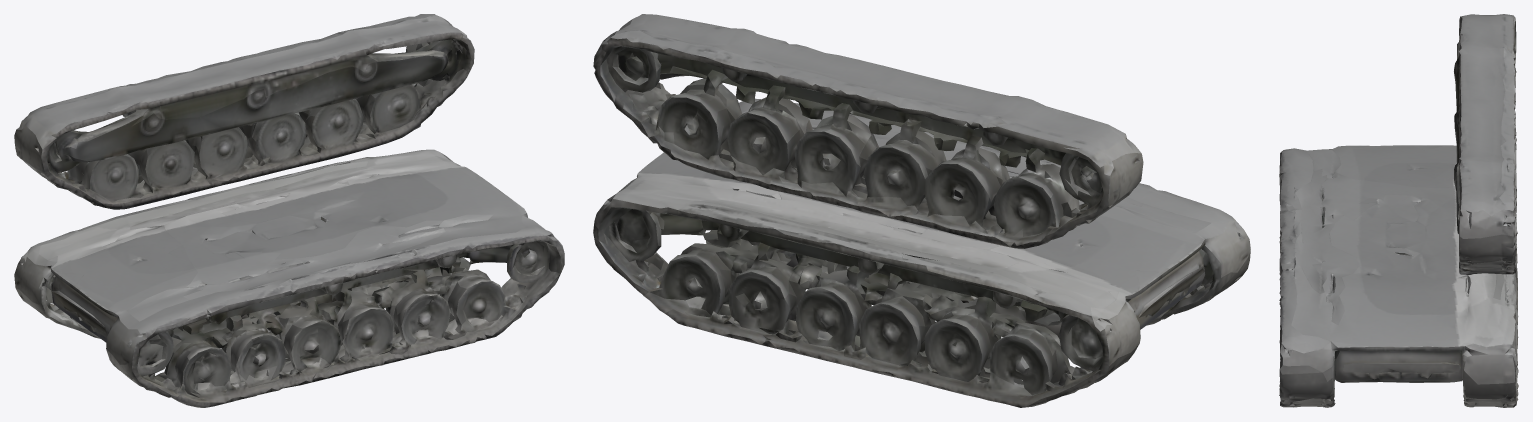
The model's file is light_tracks_only_v2.glb.
The picture shows the model from 3 angles, left to right: view 1: azimuth 30°, elevation 25°; view 2: azimuth 150°, elevation 25°; view 3: azimuth 270°, elevation 25°; orthographic projection. The views are drawn at different scales.
Visible parts, largest first — view 1: geometry_0; view 2: geometry_0; view 3: geometry_0.
Part boxes in pixels (x1,y1,x2,y2): geometry_0: [14, 14, 564, 407]; geometry_0: [593, 14, 1250, 407]; geometry_0: [1279, 14, 1518, 407].
Size of the model in its own units: 3.2 by 1.66 by 1.54.
Materials: 1 (1 with a texture image).
